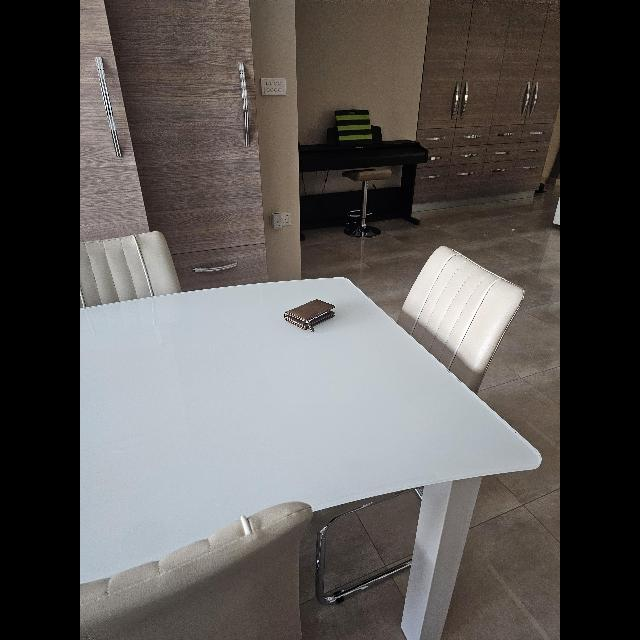Wallet: (284, 300, 332, 332)
